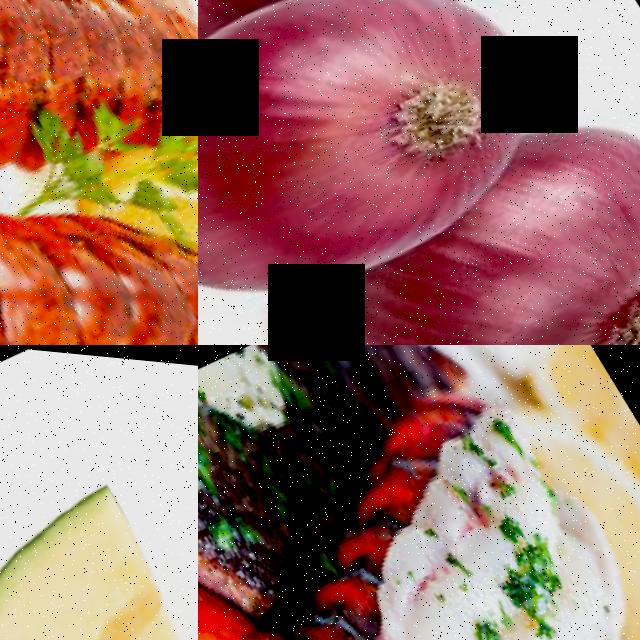lobster tails: (198, 427, 640, 640), (0, 77, 198, 345), (0, 0, 198, 217)
melon: (0, 444, 198, 640)
onion: (198, 0, 602, 345), (231, 85, 640, 345), (198, 0, 547, 90)
